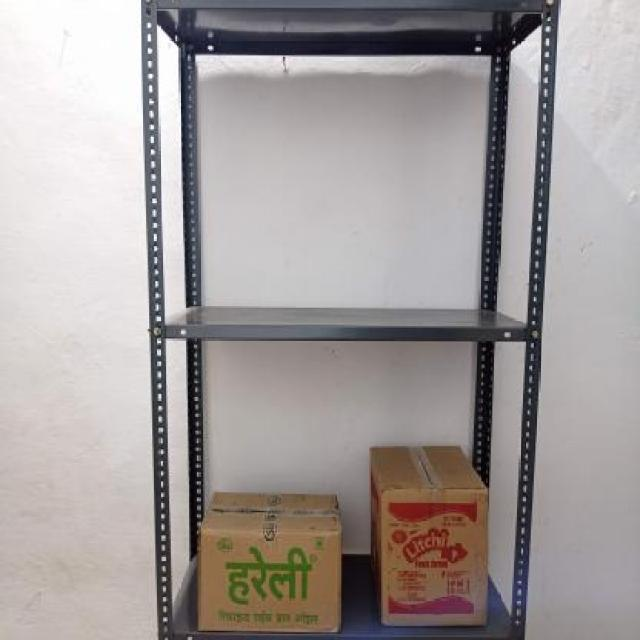box: (380, 486, 488, 628), (200, 528, 342, 634)
